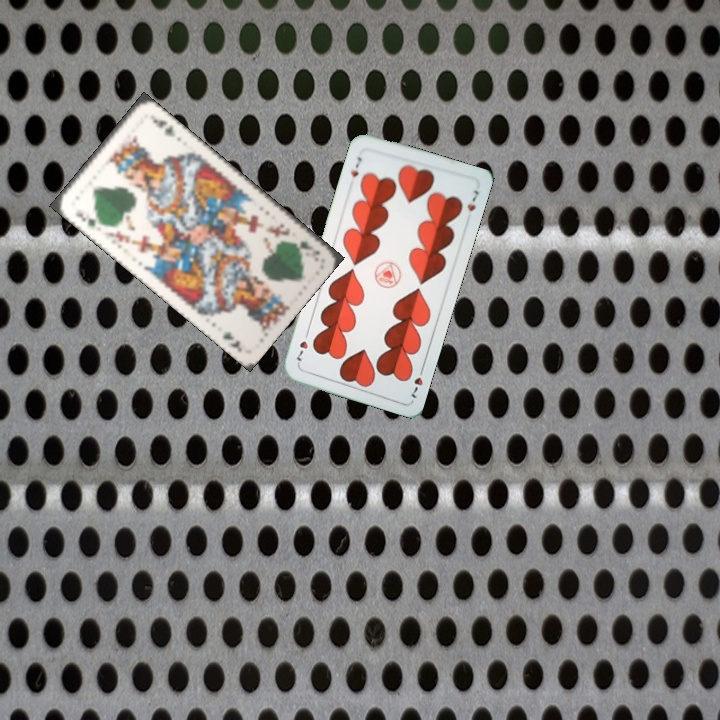GK: (288, 236, 323, 264), (71, 209, 105, 229)
H7: (407, 362, 427, 401), (345, 153, 364, 181)
